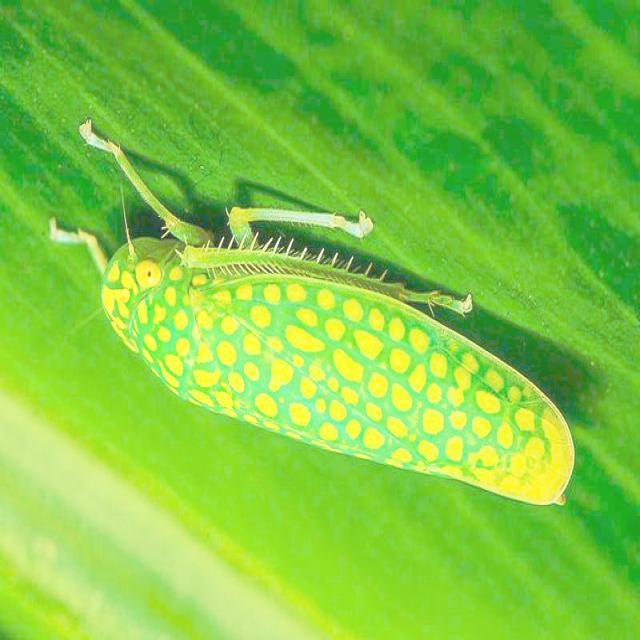green-leafhopper: (92, 159, 573, 509)
